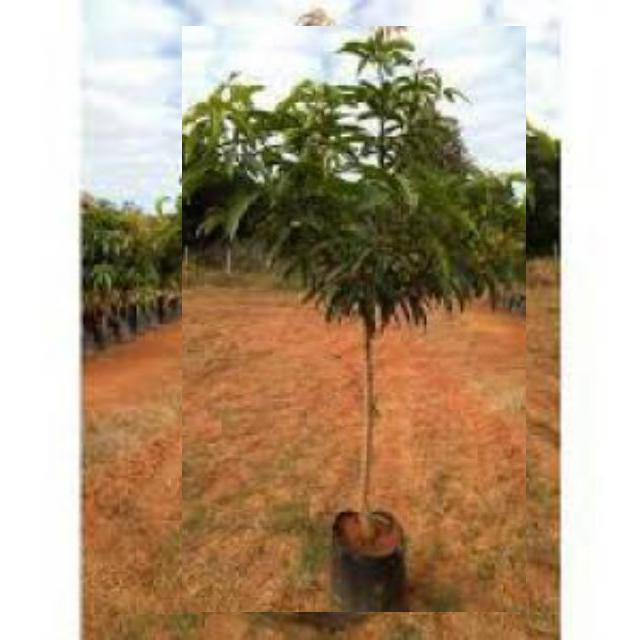tree: (182, 26, 526, 612)
